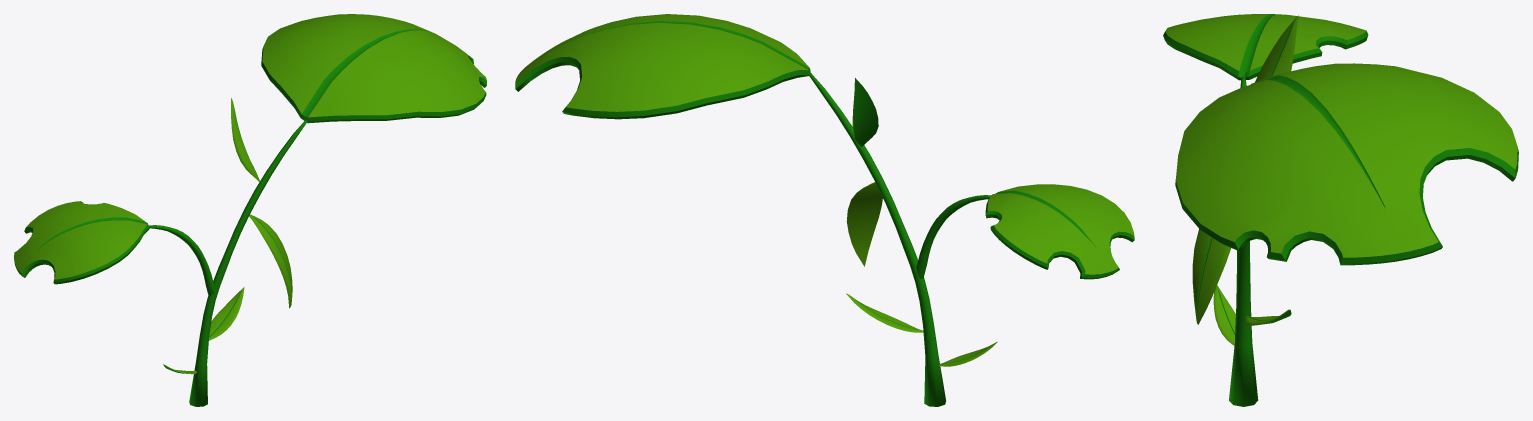
Rendered from SwampVegetation1.fbx.
The picture shows the model from 3 angles, left to right: view 1: azimuth 30°, elevation 25°; view 2: azimuth 150°, elevation 25°; view 3: azimuth 270°, elevation 25°; orthographic projection. The views are drawn at different scales.
Parts seen in each view (by area): view 1: SwanmpVegetation1_LOD0; view 2: SwanmpVegetation1_LOD0; view 3: SwanmpVegetation1_LOD0.
Part boxes in pixels (x1,y1,x2,y2): SwanmpVegetation1_LOD0: (14,14,486,406); SwanmpVegetation1_LOD0: (515,14,1134,406); SwanmpVegetation1_LOD0: (1163,14,1518,406).
Size of what is drawn, in the model's own units: 871 by 520 by 374.
